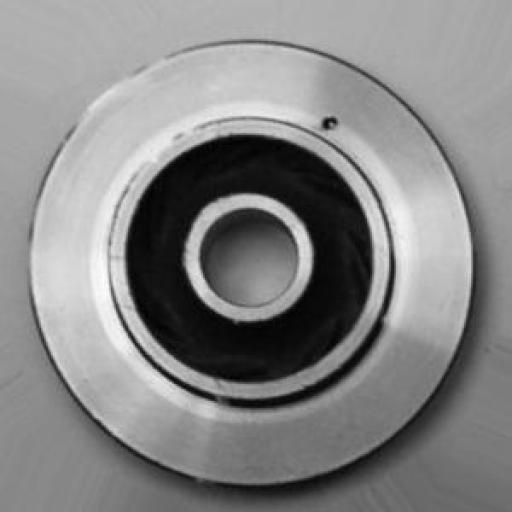defect: (274, 86, 378, 162)
